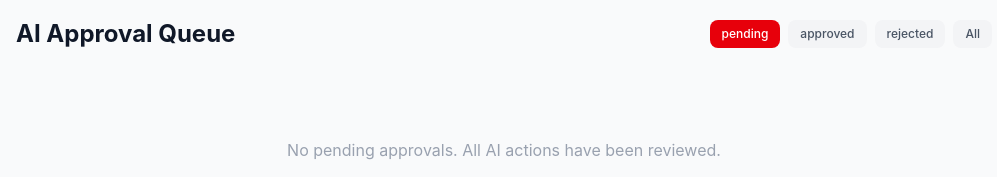
Scenario: ApprovalQueue › shows generic empty state for non-pending filters
Click the button "approved" at x=827, y=34, box [788, 20, 866, 48]
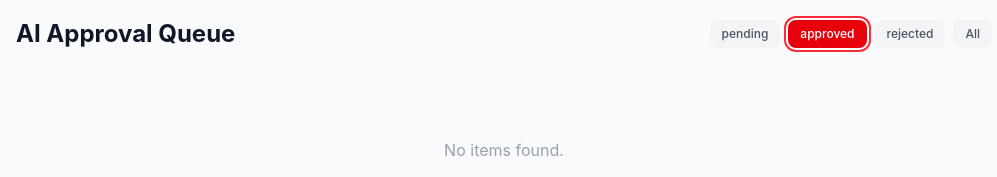
Expected: the text "No items found." is shown, [444, 140, 564, 160]
